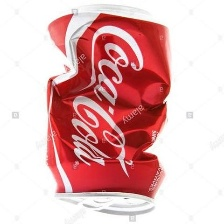can: (36, 2, 176, 222)
